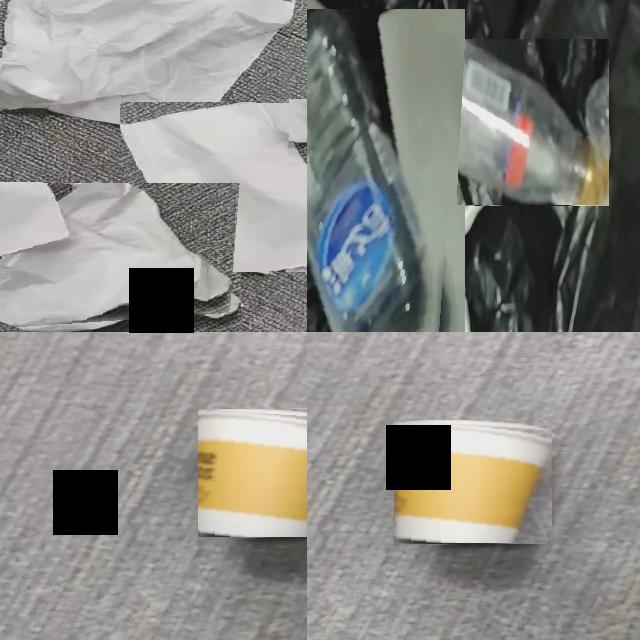bottle: (307, 9, 433, 332), (445, 40, 604, 205)
dixie_cup: (394, 423, 551, 543), (198, 410, 307, 537)
paper: (0, 0, 292, 133), (0, 183, 234, 327), (124, 106, 307, 272), (397, 125, 488, 270)
